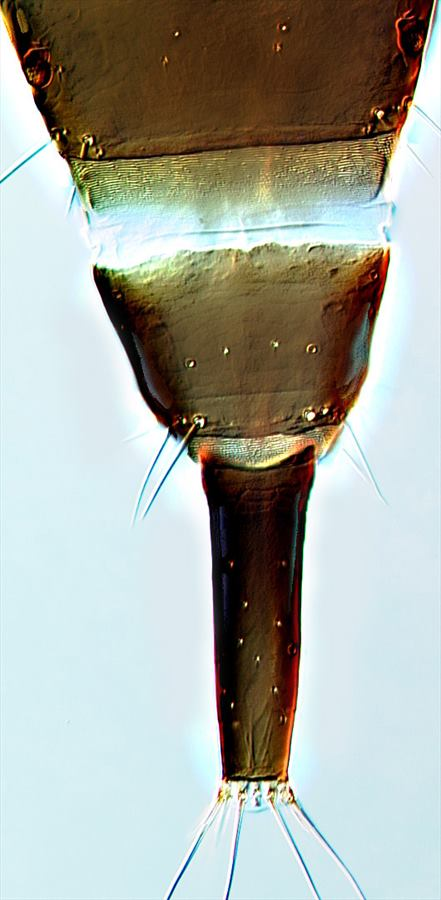Phlaeothripidae: (6, 1, 441, 846)
